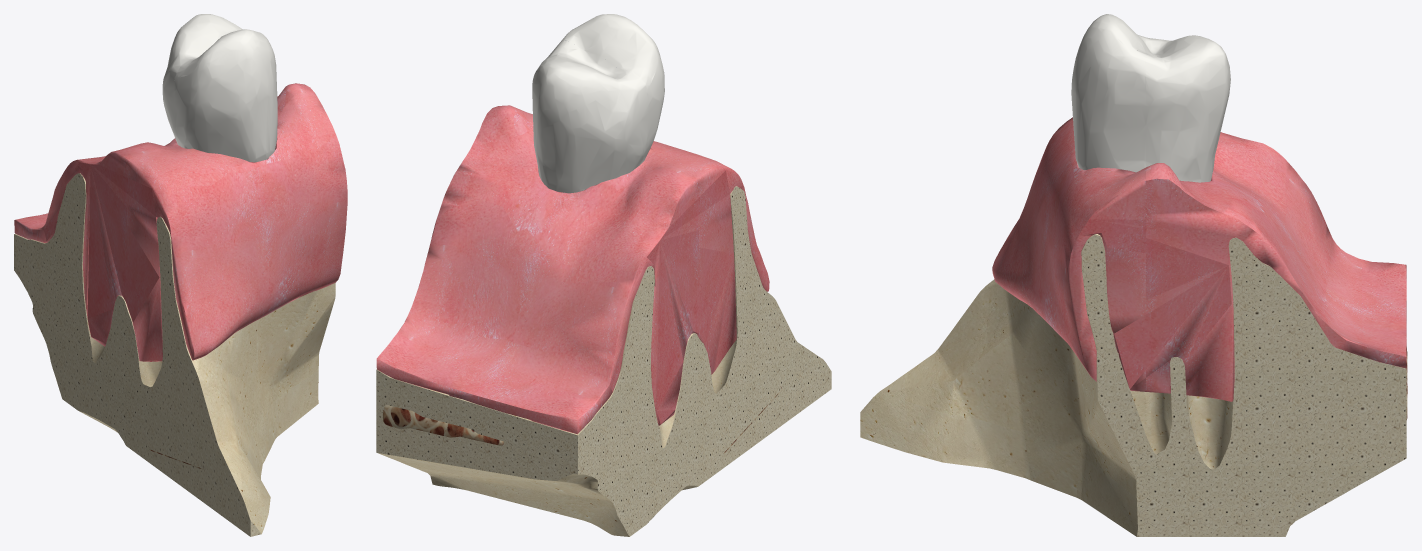
3 renders of one model, left to right at view 1: azimuth 30°, elevation 25°; view 2: azimuth 150°, elevation 25°; view 3: azimuth 270°, elevation 25°, orthographic. The views are drawn at different scales.
Parts seen in each view (by area): view 1: gingiva_b, kompakta_b, kompakta_a, schmelz_b, gingiva_a, schmelz_a; view 2: gingiva_a, kompakta_a, kompakta_b, schmelz_a, gingiva_b, schmelz_b, spongiosa_a; view 3: kompakta_a, kompakta_b, gingiva_a, gingiva_b, schmelz_a, schmelz_b.
Part boxes in pixels (x1,y1,x2,y2): gingiva_b: (127, 92, 347, 361); kompakta_b: (127, 216, 335, 536); kompakta_a: (14, 173, 127, 446); schmelz_b: (174, 29, 277, 162); gingiva_a: (14, 83, 314, 346); schmelz_a: (162, 14, 242, 147); gingiva_a: (376, 105, 698, 434); kompakta_a: (376, 266, 698, 536); kompakta_b: (699, 186, 831, 485); schmelz_a: (532, 40, 648, 193); gingiva_b: (515, 107, 769, 374); schmelz_b: (557, 14, 664, 165); spongiosa_a: (383, 405, 503, 445); kompakta_a: (1146, 237, 1406, 536); kompakta_b: (860, 234, 1145, 536); gingiva_a: (1146, 132, 1406, 401); gingiva_b: (992, 117, 1145, 391); schmelz_a: (1146, 35, 1230, 182); schmelz_b: (1071, 14, 1145, 172).
Size of the model in its own units: 0.0143 by 0.0292 by 0.0311.
Materials: 21 (8 with a texture image).
